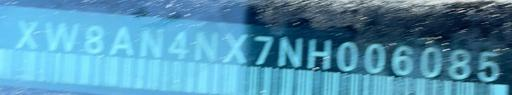letter: (274, 32, 310, 69), (303, 35, 339, 72), (44, 18, 82, 53), (190, 27, 224, 66), (386, 41, 420, 76), (136, 23, 168, 60), (220, 30, 252, 67), (444, 45, 476, 82), (107, 24, 139, 59), (247, 31, 279, 66), (359, 40, 391, 75), (474, 48, 504, 85), (13, 17, 43, 52), (333, 38, 363, 73), (418, 43, 446, 80), (165, 26, 193, 61), (81, 22, 109, 55)
